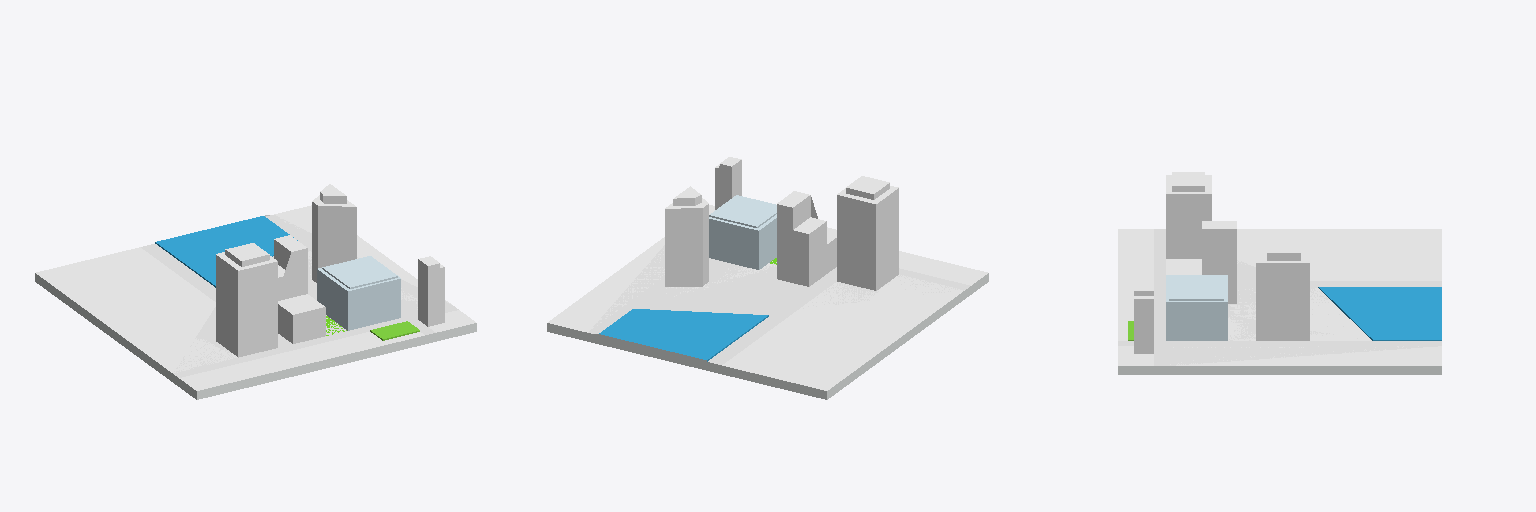
The model's file is map.obj.
3 views of the same model, side by side, from view 1: azimuth 30°, elevation 25°; view 2: azimuth 150°, elevation 25°; view 3: azimuth 270°, elevation 25° (orthographic).
Visible parts, largest first — view 1: Mesh5 Model, Mesh1 Group1 Model, Mesh4 Group_1_1 Model, Mesh3 Group3 Model, Mesh2 Group2 Model; view 2: Mesh5 Model, Mesh1 Group1 Model, Mesh3 Group3 Model, Mesh4 Group_1_1 Model, Mesh2 Group2 Model; view 3: Mesh5 Model, Mesh2 Group2 Model, Mesh4 Group_1_1 Model, Mesh1 Group1 Model, Mesh3 Group3 Model.
Part boxes in pixels (x1,y1,x2,y2): Mesh5 Model: (35,205,476,399); Mesh1 Group1 Model: (216,243,277,357); Mesh4 Group_1_1 Model: (317,256,400,330); Mesh3 Group3 Model: (274,235,325,343); Mesh2 Group2 Model: (312,184,356,282); Mesh5 Model: (547,157,988,399); Mesh1 Group1 Model: (837,176,898,290); Mesh3 Group3 Model: (777,191,836,286); Mesh4 Group_1_1 Model: (709,195,776,269); Mesh2 Group2 Model: (665,186,708,286); Mesh5 Model: (1118,229,1441,374); Mesh2 Group2 Model: (1256,244,1309,340); Mesh4 Group_1_1 Model: (1166,275,1227,340); Mesh1 Group1 Model: (1166,172,1211,258); Mesh3 Group3 Model: (1166,221,1236,303).
Size of the model in its own units: 10 by 3.46 by 10.